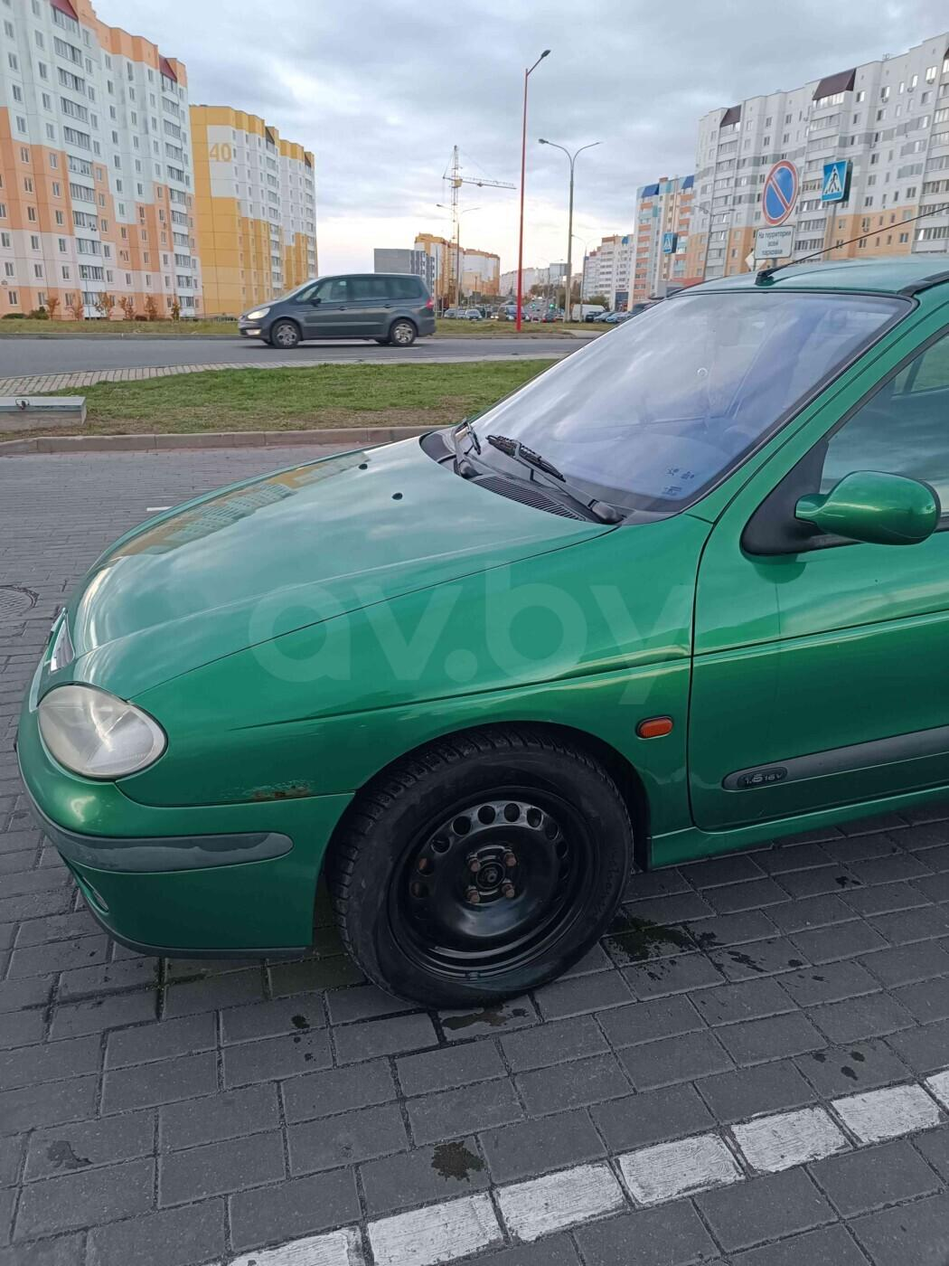Megane_1999-2003: (11, 262, 949, 998)
